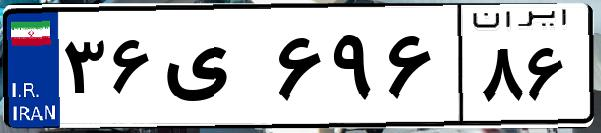3: (57, 26, 110, 100)
6: (270, 28, 330, 110), (385, 28, 445, 110), (525, 38, 570, 115), (110, 28, 158, 98)
8: (475, 38, 525, 113)
9: (330, 28, 385, 110)
ی: (158, 20, 270, 120)
